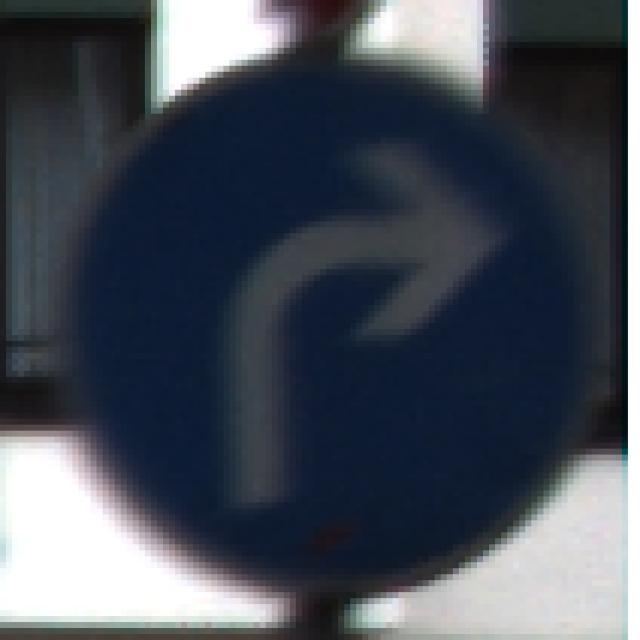compulsary turn right ahead: (48, 44, 595, 589)
